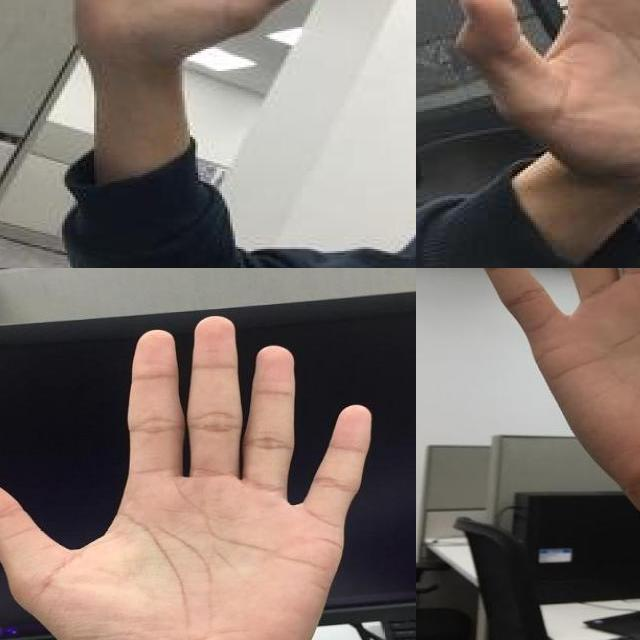hand: (0, 311, 371, 640), (461, 268, 640, 496), (458, 0, 640, 197), (70, 0, 331, 131)
